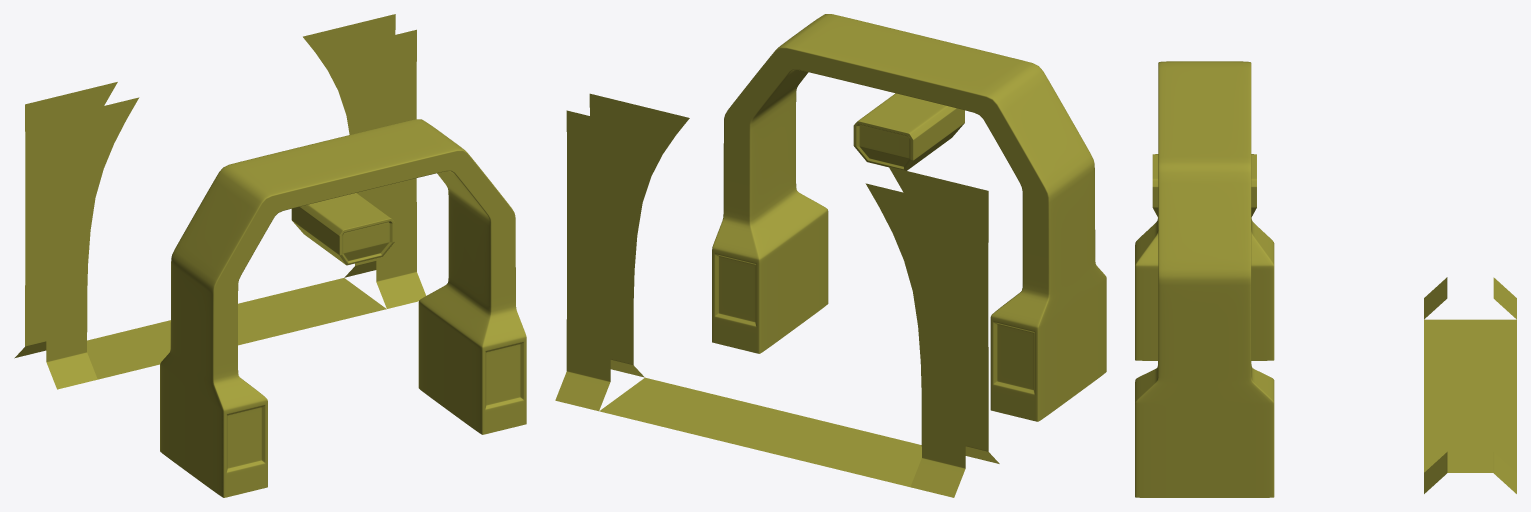
Rendered from StandardDoorHigh.FBX.
3 views of the same model, side by side, from view 1: azimuth 30°, elevation 25°; view 2: azimuth 150°, elevation 25°; view 3: azimuth 270°, elevation 25° (orthographic). The views are drawn at different scales.
Parts seen in each view (by area): view 1: SM_FloorToWall; view 2: SM_FloorToWall; view 3: SM_FloorToWall.
Part boxes in pixels (x1,y1,x2,y2): SM_FloorToWall: (14, 14, 526, 497); SM_FloorToWall: (555, 14, 1106, 497); SM_FloorToWall: (1135, 61, 1516, 497).
Size of the model in its own units: 157 by 129 by 114.
